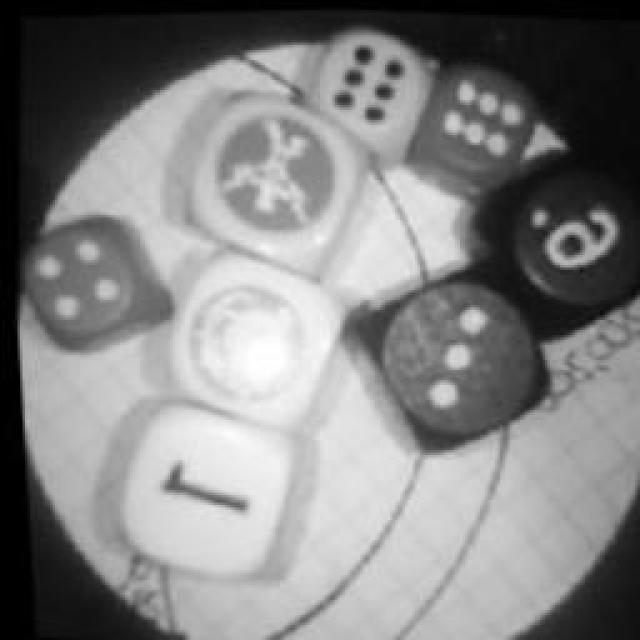dice_3: (336, 244, 562, 468)
dice_4: (8, 192, 182, 362)
dice_6: (288, 14, 448, 174), (390, 50, 550, 210)
